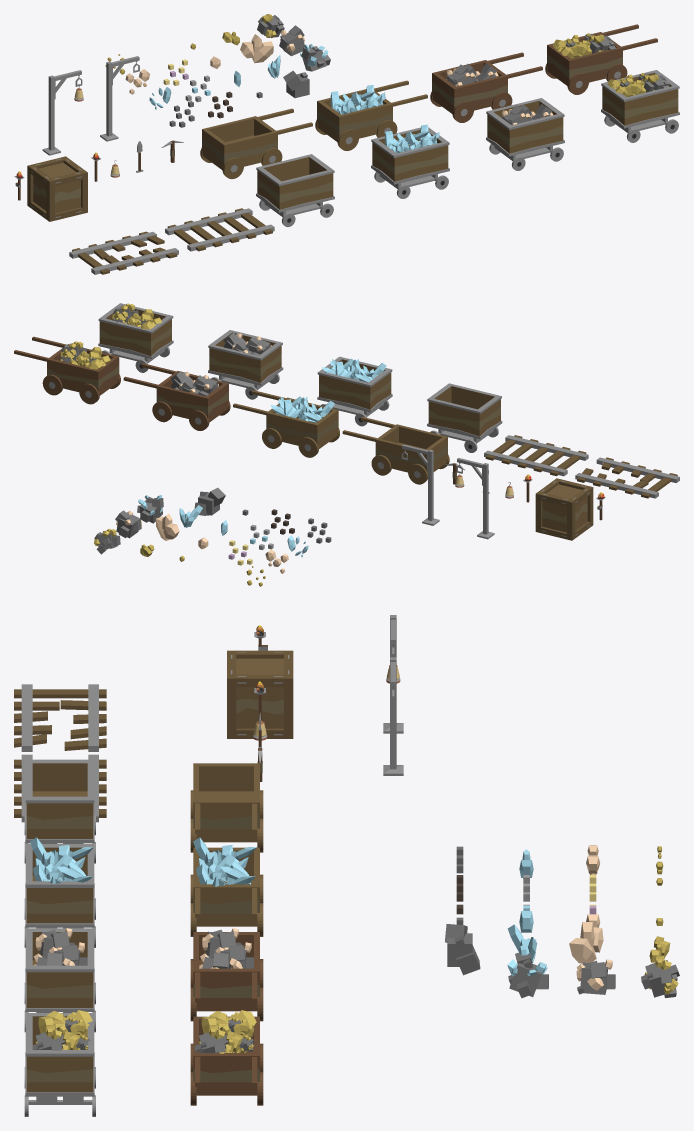
The model's file is Mining.glb.
3 renders of one model, top to bottom at view 1: azimuth 30°, elevation 25°; view 2: azimuth 150°, elevation 25°; view 3: azimuth 270°, elevation 25°, orthographic. The views are drawn at different scales.
Visible parts, largest first — view 1: cart_iron_dime, cart_iron_gold, \, cart_iron_iron, cart_dime, cart_gold, cart_iron, cart, crate, rail, rail_broken, pole_lantern (+6 smaller); view 2: cart_dime, cart_gold, cart_iron, \, cart_iron_gold, cart_iron_iron, cart_iron_dime, cart, crate, rail, rail_broken, pole_lantern (+6 smaller); view 3: cart_iron_gold, cart_iron_dime, cart_iron_iron, \, cart_gold, cart_dime, cart_iron, cart, crate, rail_broken, rail, dime_crystal (+5 smaller).
Boxes of the visible parts, box(x1,y1,x2,y2) form: cart_iron_dime: box(371, 124, 449, 198); cart_iron_gold: box(601, 70, 679, 142); \: box(256, 154, 334, 227); cart_iron_iron: box(486, 98, 564, 170); cart_dime: box(315, 80, 427, 150); cart_gold: box(545, 24, 657, 94); cart_iron: box(430, 52, 542, 122); cart: box(200, 108, 312, 179); crate: box(27, 156, 87, 221); rail: box(165, 208, 274, 251); rail_broken: box(69, 231, 178, 274); pole_lantern: box(42, 70, 83, 155); cart_dime: box(233, 390, 339, 457); cart_gold: box(14, 336, 120, 404); cart_iron: box(123, 363, 230, 430); \: box(427, 383, 502, 452); cart_iron_gold: box(98, 303, 173, 372); cart_iron_iron: box(208, 330, 283, 399); cart_iron_dime: box(317, 356, 392, 426); cart: box(342, 417, 449, 484); crate: box(535, 478, 593, 540); rail: box(484, 435, 588, 476); rail_broken: box(575, 457, 679, 498); pole_lantern: box(455, 458, 494, 539); cart_iron_gold: box(24, 1010, 95, 1116); cart_iron_dime: box(24, 837, 95, 947); cart_iron_iron: box(24, 928, 95, 1032); \: box(24, 759, 95, 863); cart_gold: box(190, 1010, 263, 1105); cart_dime: box(190, 837, 263, 936); cart_iron: box(190, 928, 263, 1021); cart: box(190, 763, 263, 852); crate: box(227, 650, 293, 738); rail_broken: box(14, 684, 106, 751); rail: box(14, 754, 106, 822); dime_crystal: box(507, 945, 548, 998).
Bounding box in the file's own units: 32.38 × 5.15 × 20.
